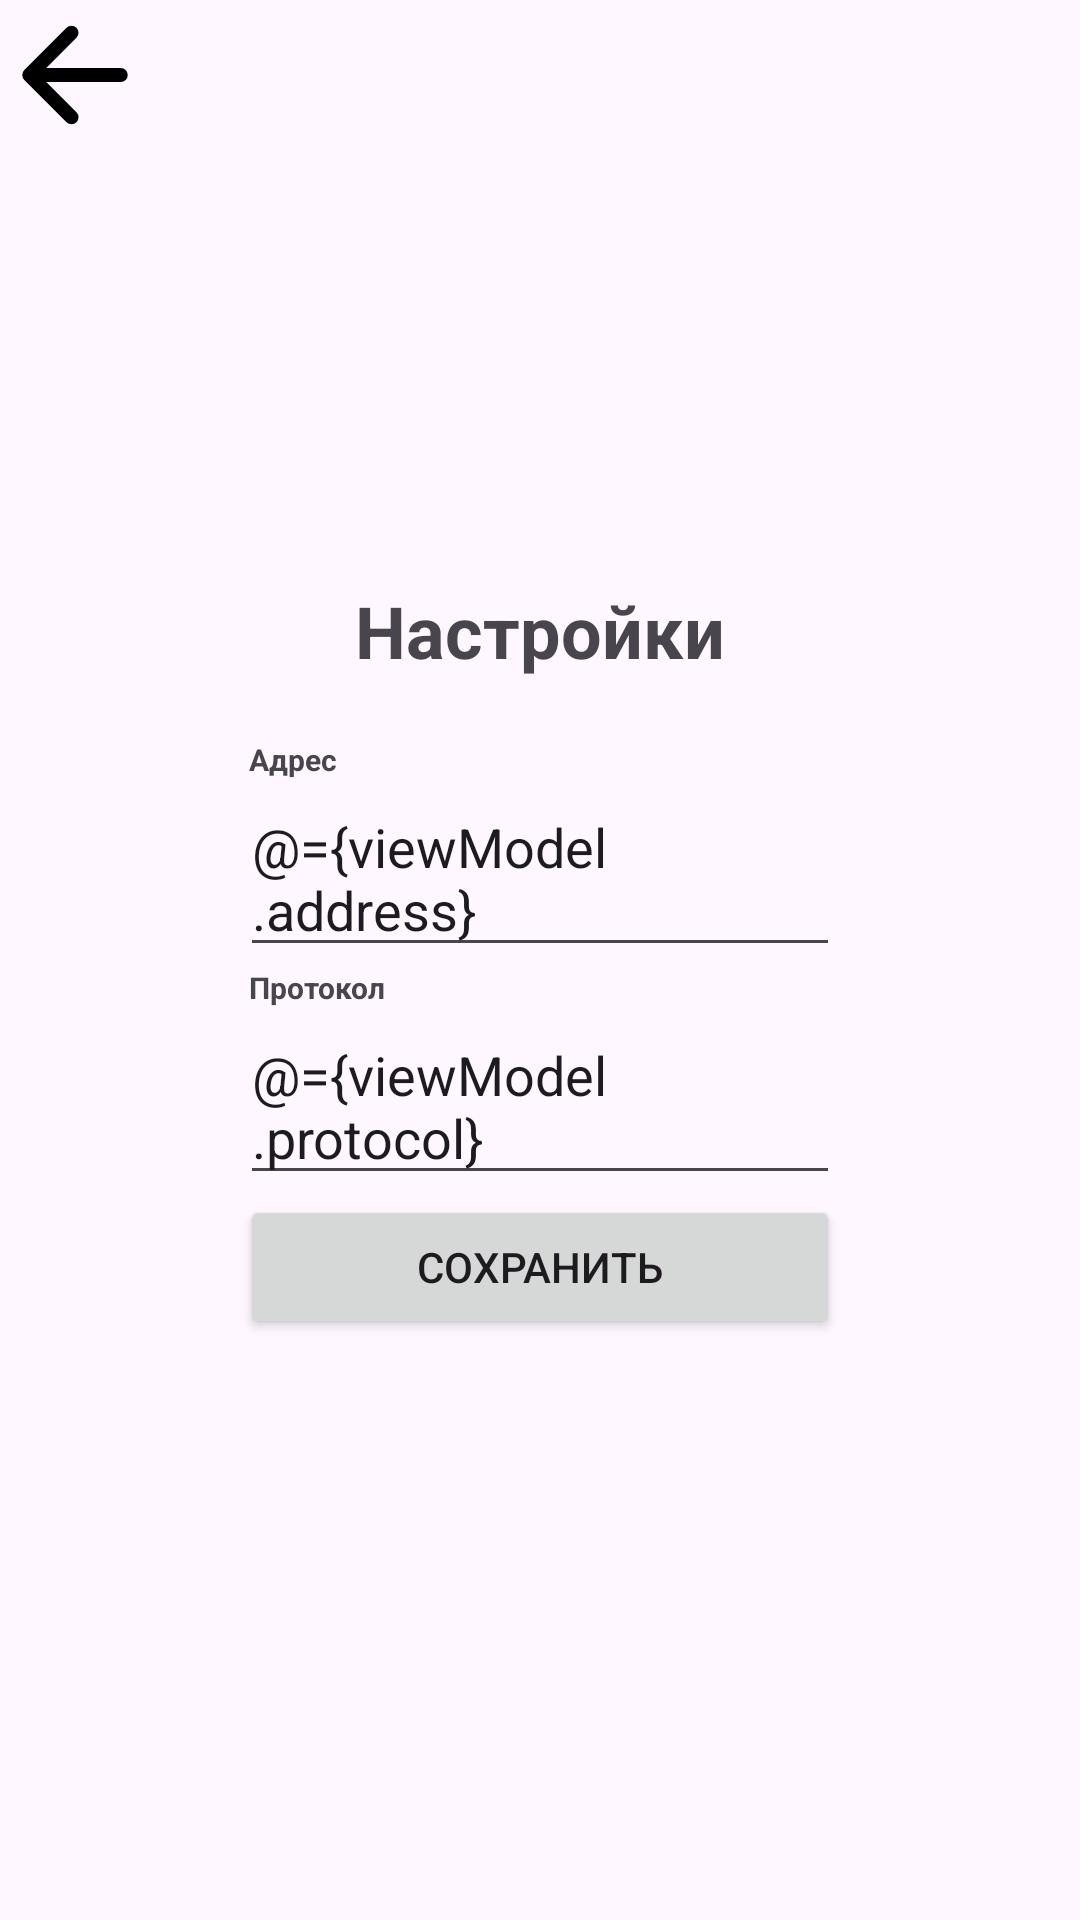

Screen size 1080 × 1920. Icon name, then its box in pixels as (x1, y1, x2, y2):
arrow back: (22, 25, 128, 125)
